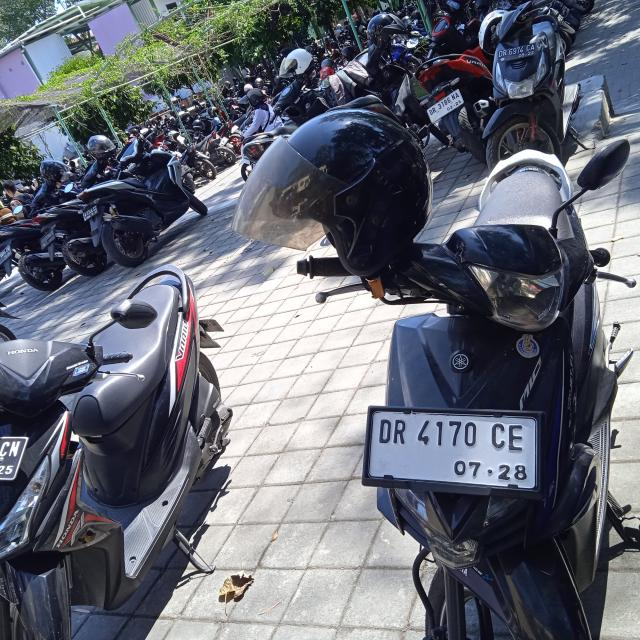plate: (372, 412, 537, 490), (426, 89, 465, 125), (497, 43, 535, 64)
